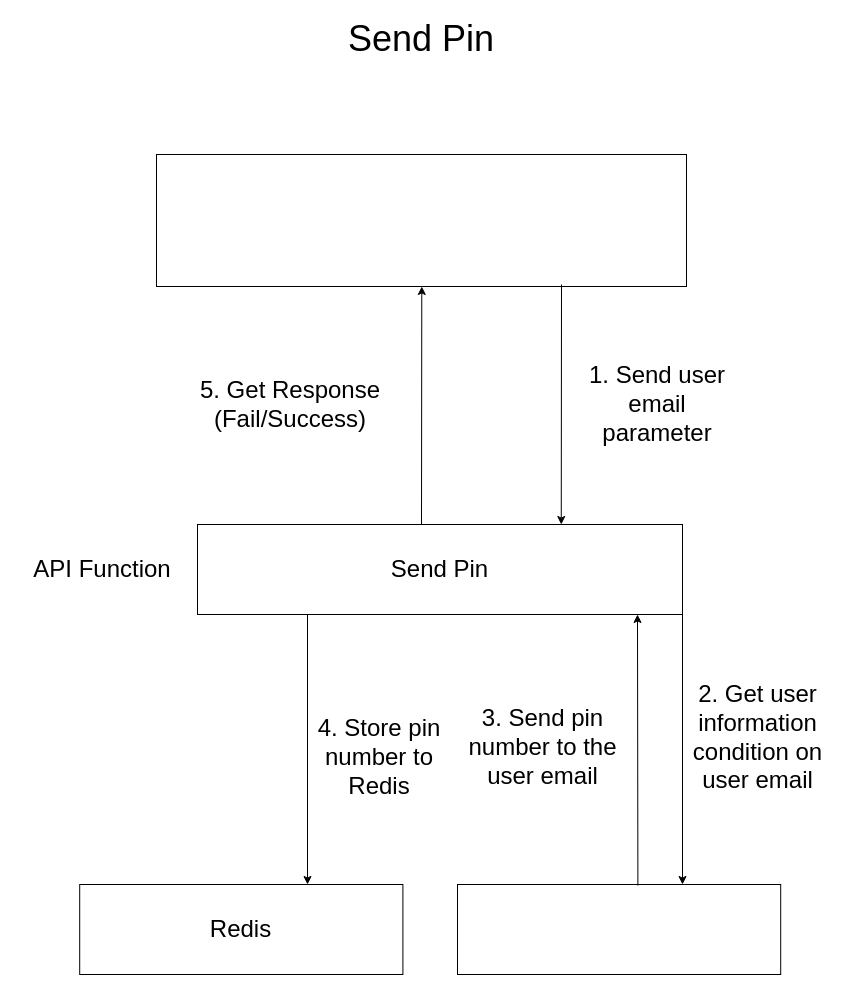
The diagram is 842 pixels wide and 992 high, and some of its shapes have lost their labels. Each missing label, with the box of its shape:
Client: (156, 154, 686, 286)
MYSQL Database: (456, 884, 781, 974)
